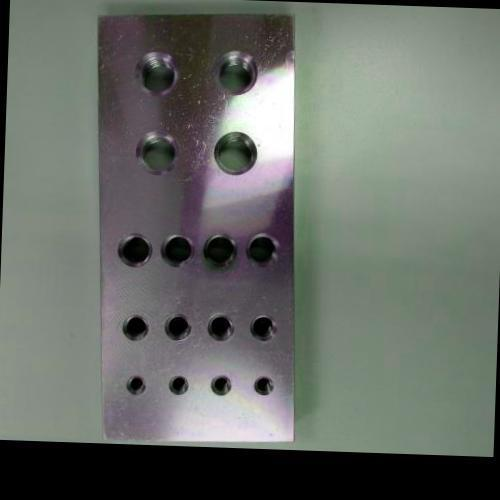hole: (130, 126, 180, 178), (209, 128, 256, 178), (211, 48, 258, 98), (131, 48, 179, 96), (114, 230, 152, 268), (243, 230, 280, 269), (158, 231, 195, 269), (200, 232, 236, 270), (161, 310, 191, 343), (118, 312, 148, 344), (246, 312, 276, 344), (203, 312, 234, 342), (123, 374, 146, 396), (166, 373, 188, 396), (208, 374, 231, 396), (251, 375, 272, 396)
